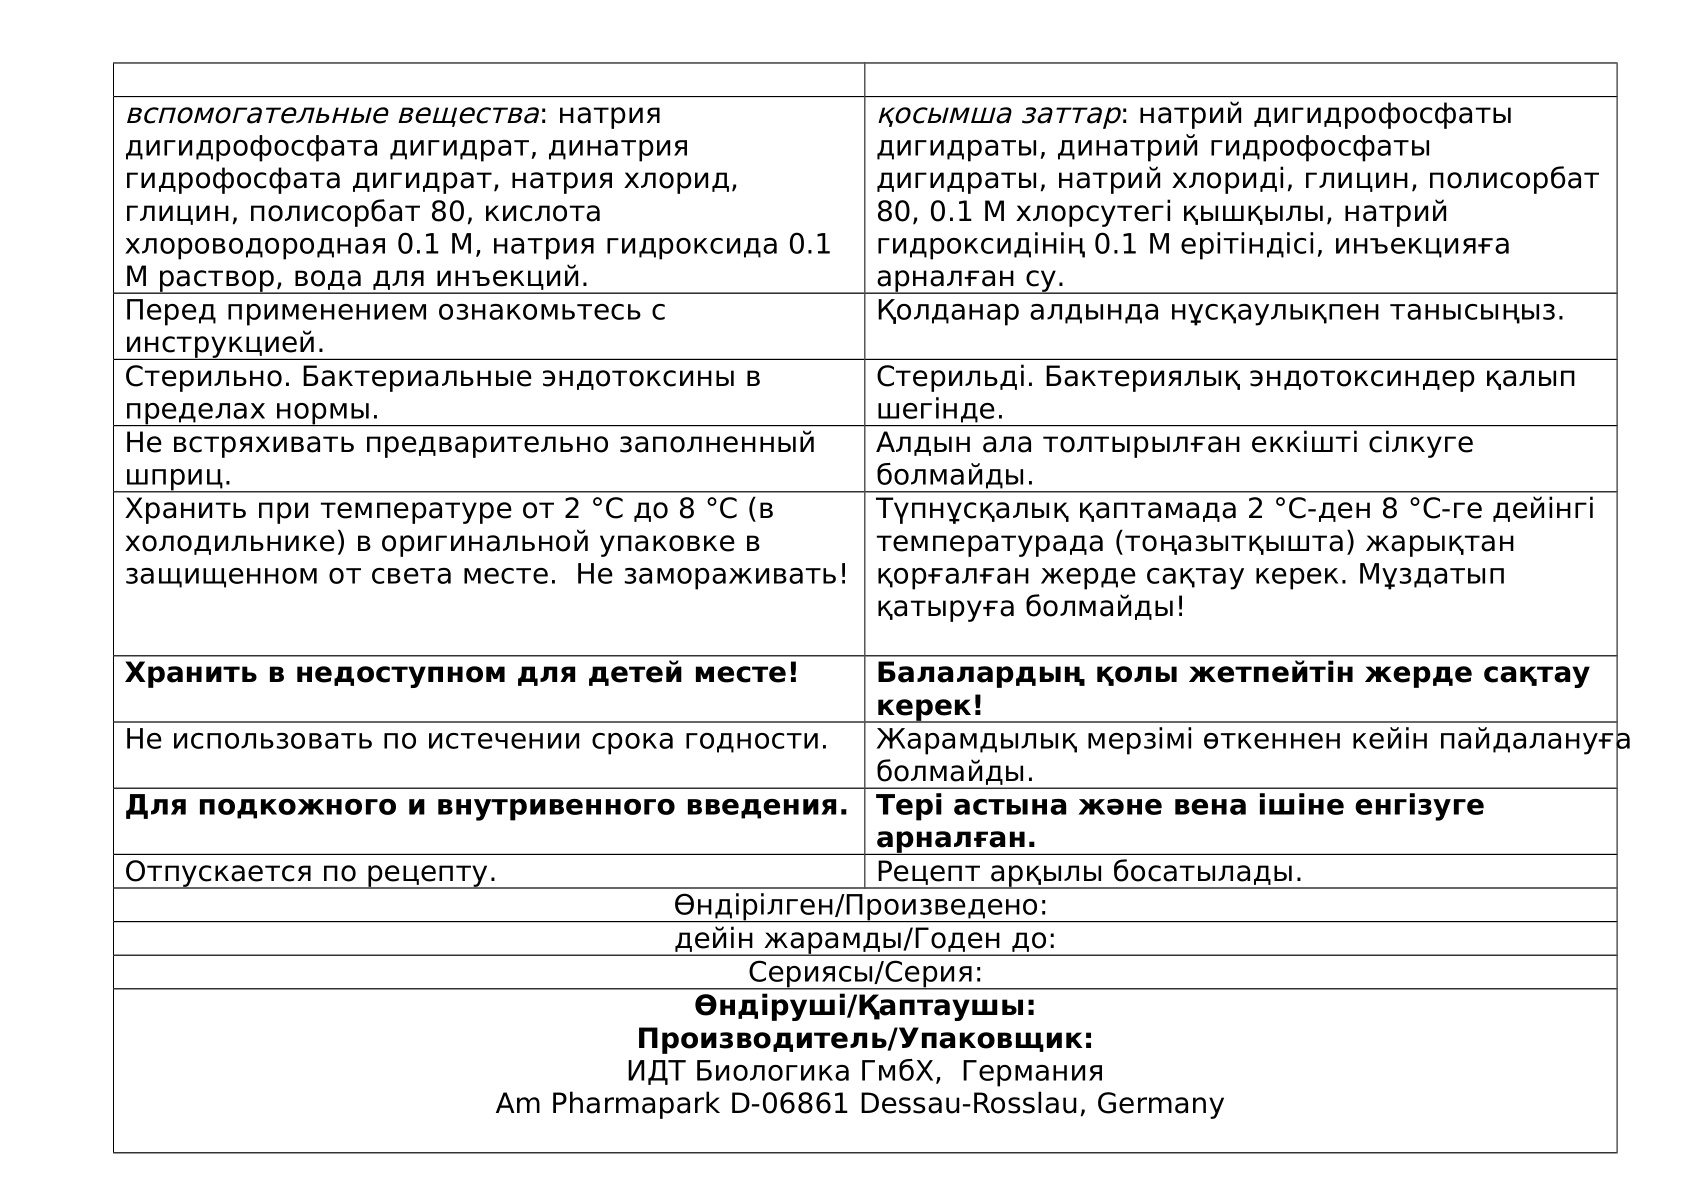merged_cells: (112, 61, 1617, 1153)
